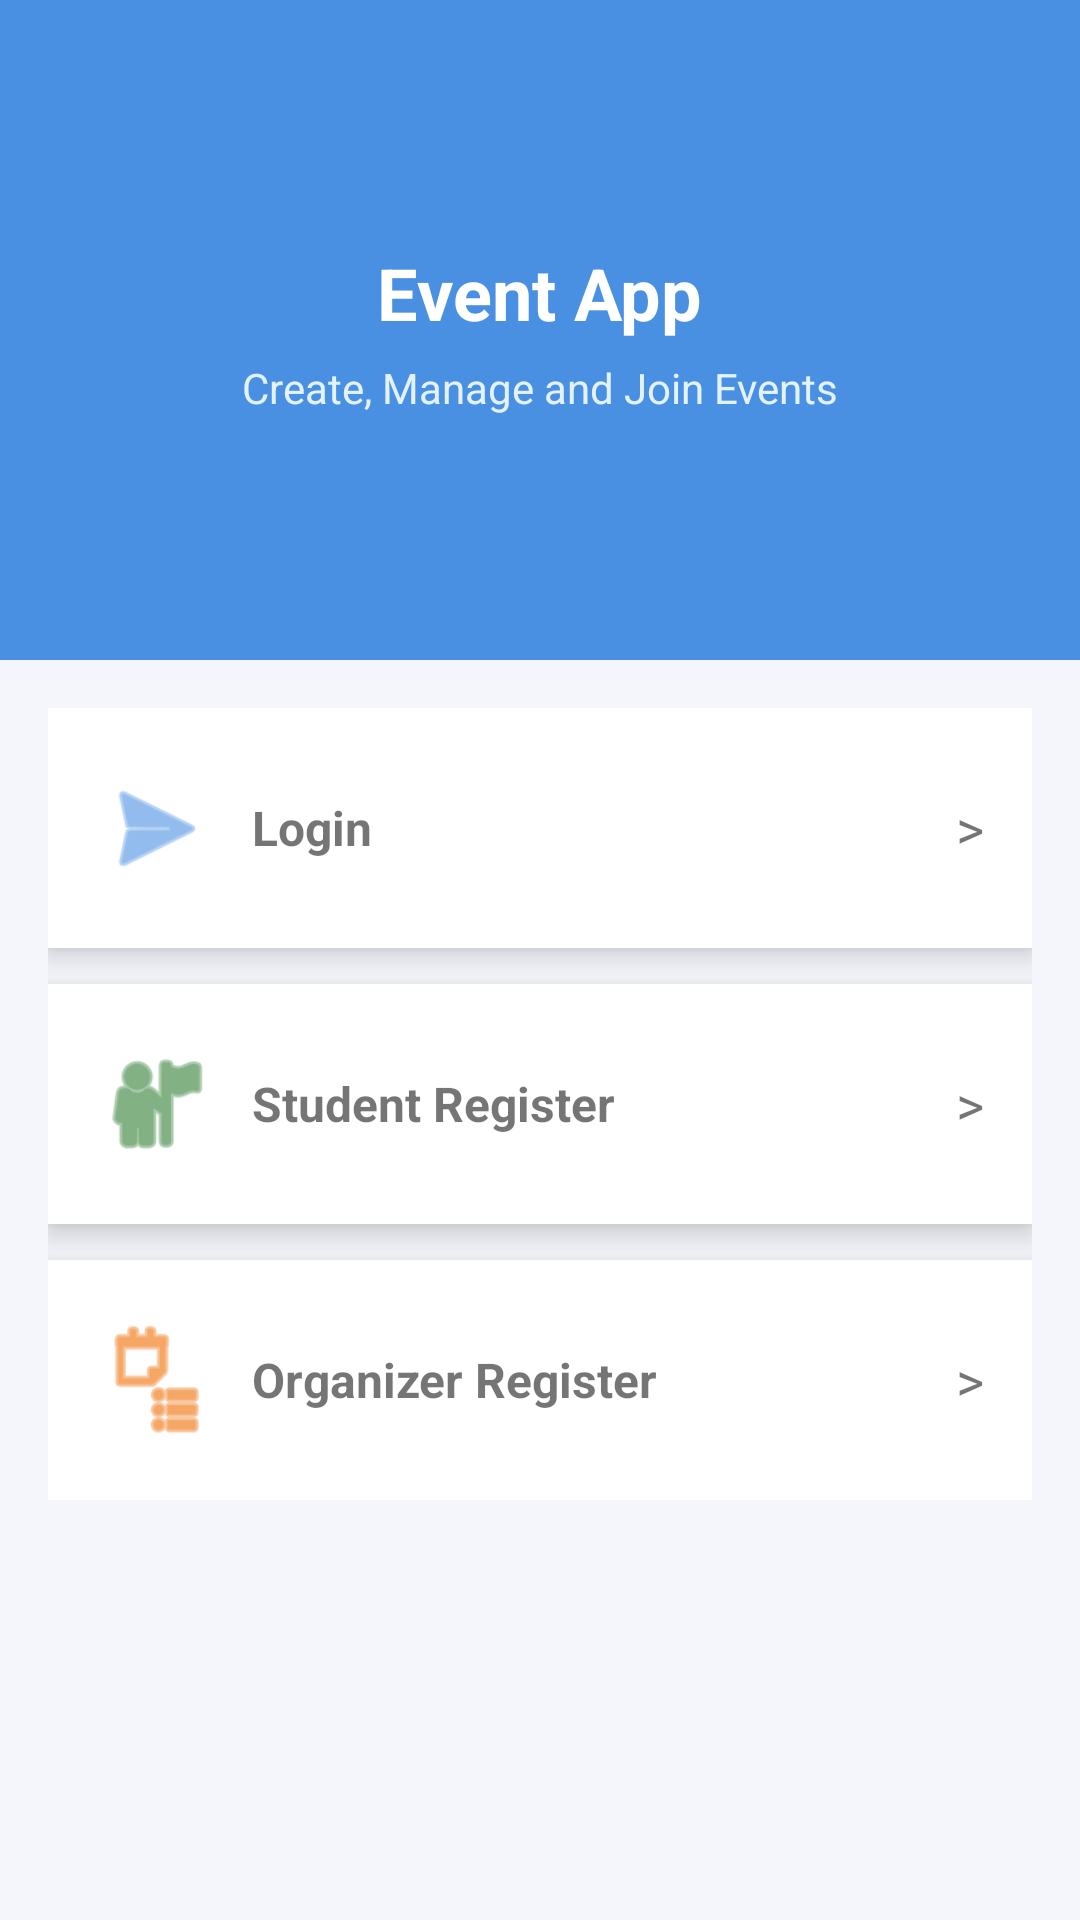

Where icons sit on this 1080 x 1920 app screen, as (x1, y1, x2, y2):
agenda: (114, 1326, 199, 1433)
send: (119, 791, 195, 866)
